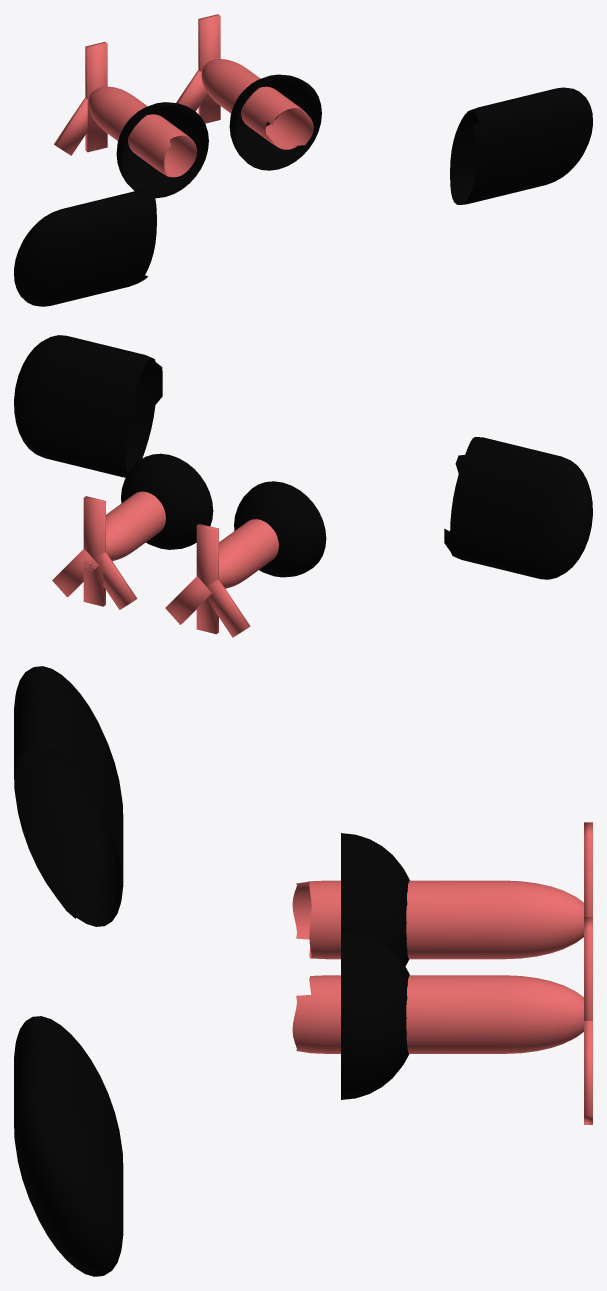
The model's file is chickenLimbs.fbx.
3 renders of one model, top to bottom at view 1: azimuth 30°, elevation 25°; view 2: azimuth 150°, elevation 25°; view 3: azimuth 270°, elevation 25°, orthographic. The views are drawn at different scales.
Visible parts, largest first — view 1: RightArm, left arm, right arm, left leg; view 2: RightArm, left arm, right arm, left leg; view 3: left leg, right arm, RightArm, left arm.
Boxes of the visible parts, left/top/right/bottom form: RightArm: left=14, top=189, right=156, bottom=306; left arm: left=450, top=87, right=592, bottom=204; right arm: left=53, top=42, right=208, bottom=198; left leg: left=176, top=14, right=321, bottom=170; RightArm: left=444, top=437, right=592, bottom=579; left arm: left=14, top=335, right=162, bottom=477; right arm: left=165, top=481, right=326, bottom=637; left leg: left=52, top=453, right=213, bottom=609; left leg: left=292, top=917, right=592, bottom=1124; right arm: left=292, top=822, right=592, bottom=966; RightArm: left=14, top=666, right=123, bottom=926; left arm: left=14, top=1016, right=123, bottom=1276.
Size of the model in its own units: 82.4 by 14.93 by 41.98.
